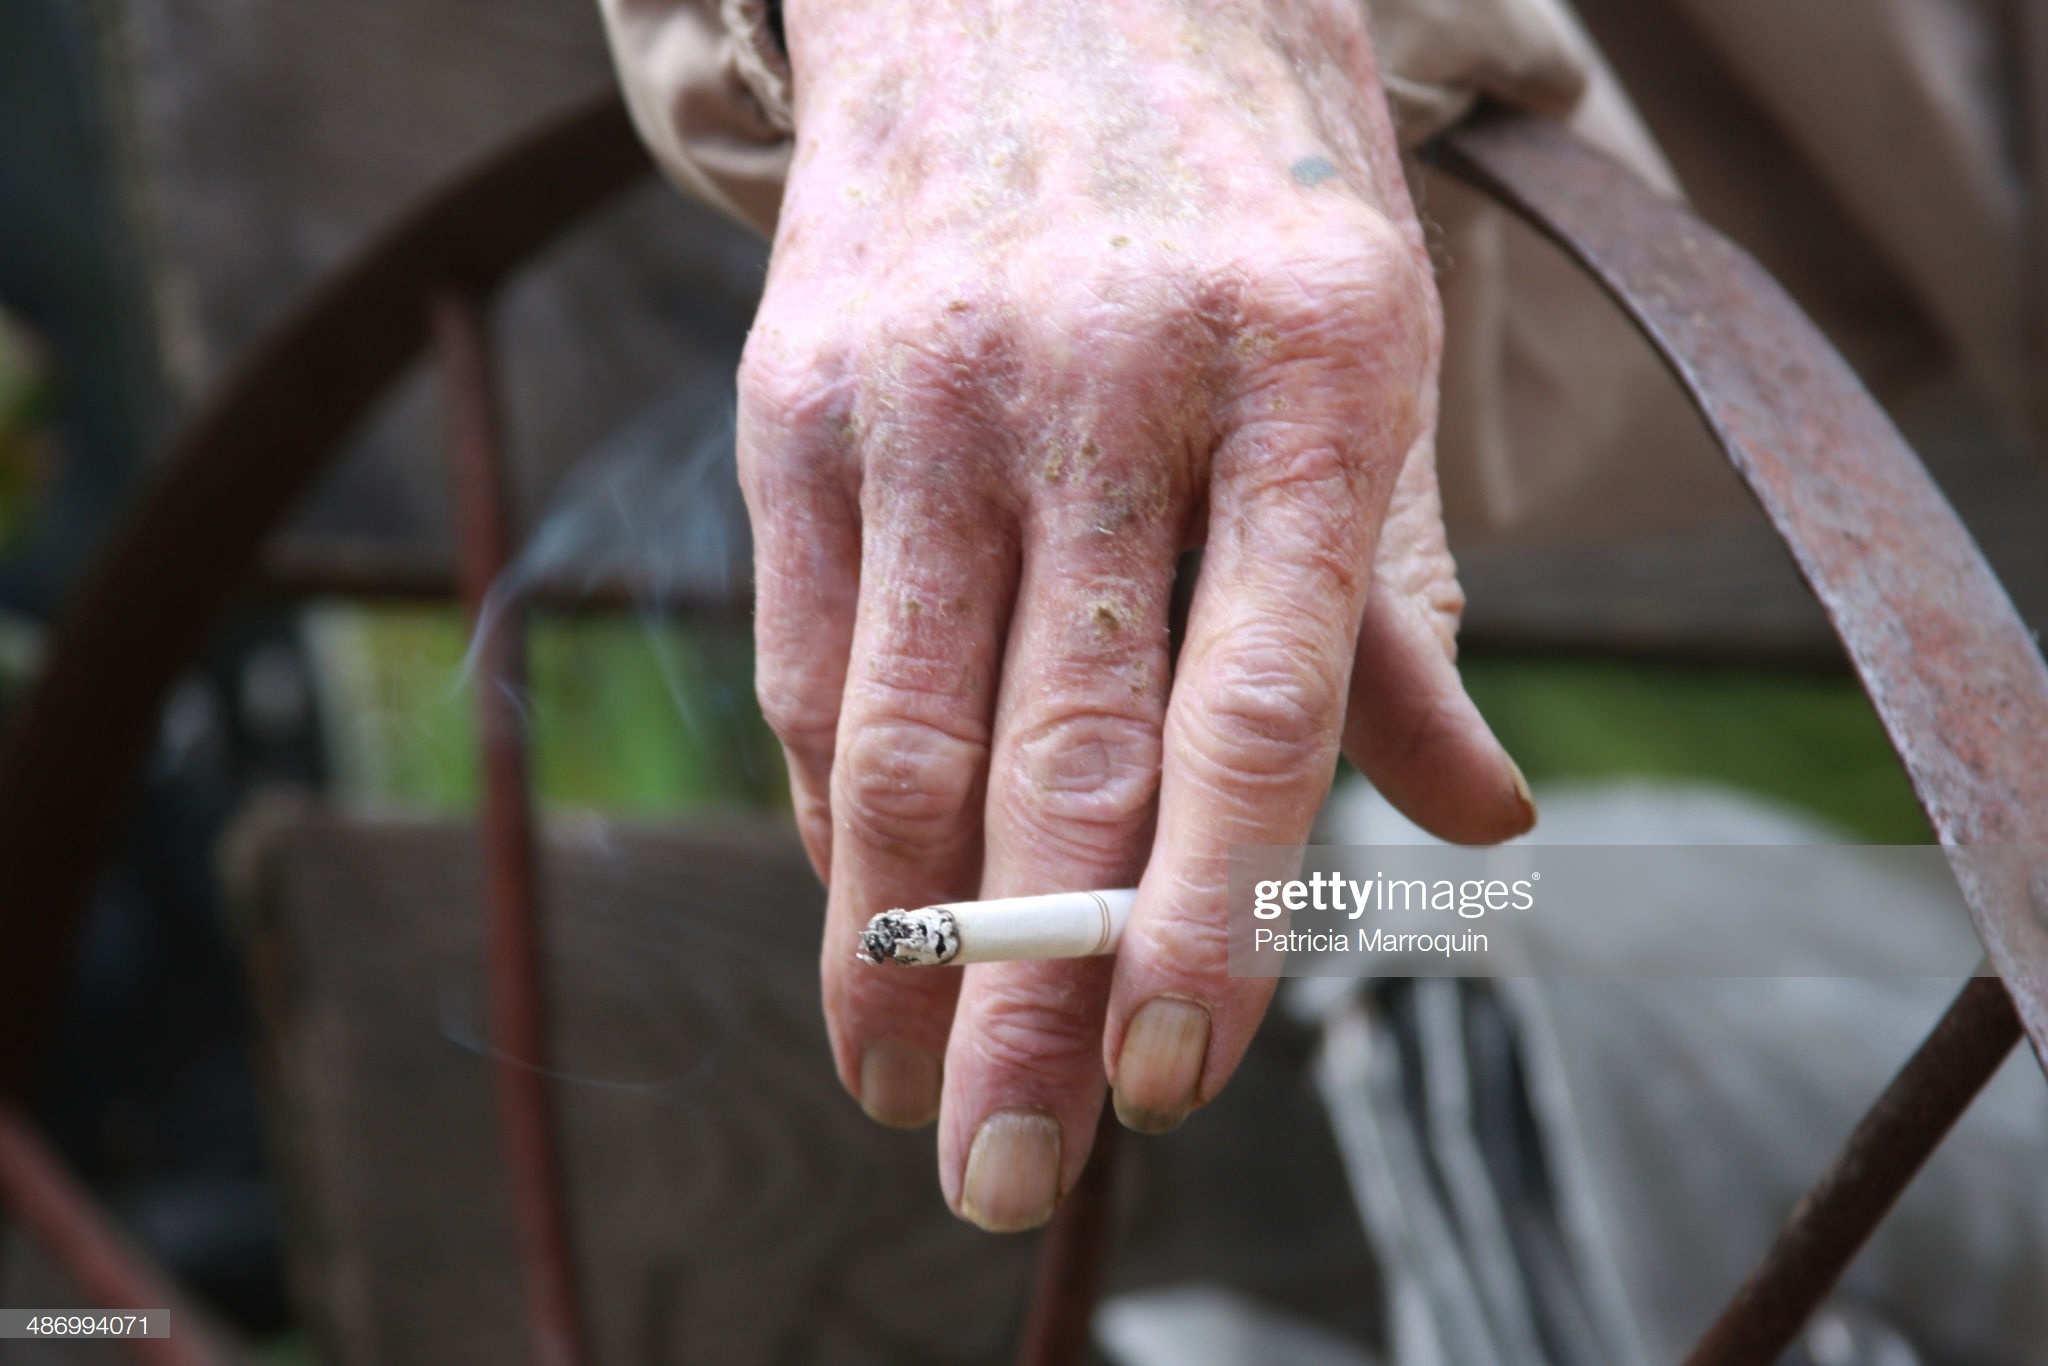sigaretta: (853, 855, 1173, 971)
